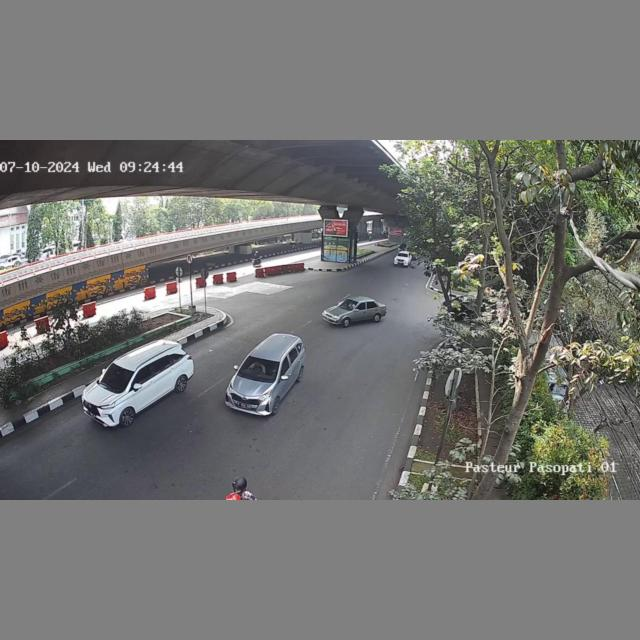windshield: (100, 364, 136, 390), (238, 357, 279, 379), (340, 298, 360, 312)
